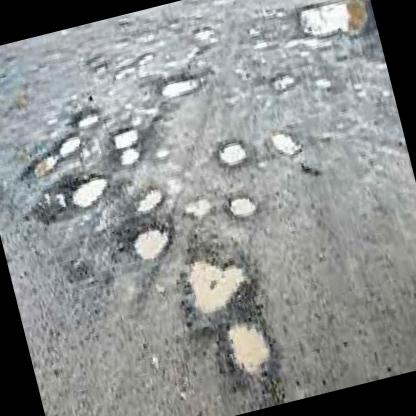pothole: (180, 243, 257, 316), (221, 312, 278, 378), (294, 0, 370, 43), (124, 218, 176, 266), (65, 167, 112, 209), (155, 67, 205, 101), (17, 146, 63, 182), (130, 182, 168, 216), (268, 124, 301, 160), (214, 136, 248, 168), (181, 192, 214, 221), (226, 192, 260, 220), (70, 102, 102, 130), (55, 129, 83, 156), (110, 125, 141, 149), (270, 69, 298, 92), (115, 144, 142, 167)
